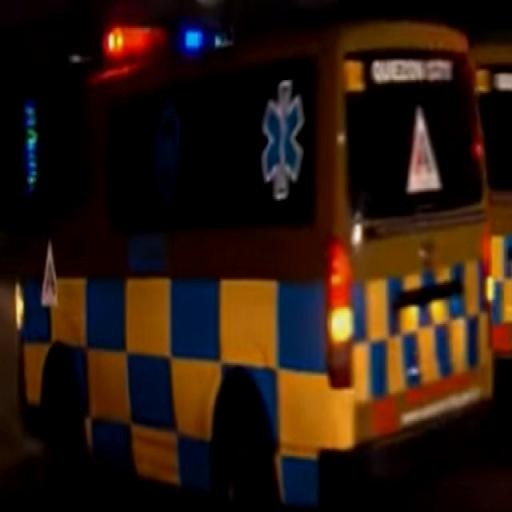Police car: (16, 24, 497, 507)
